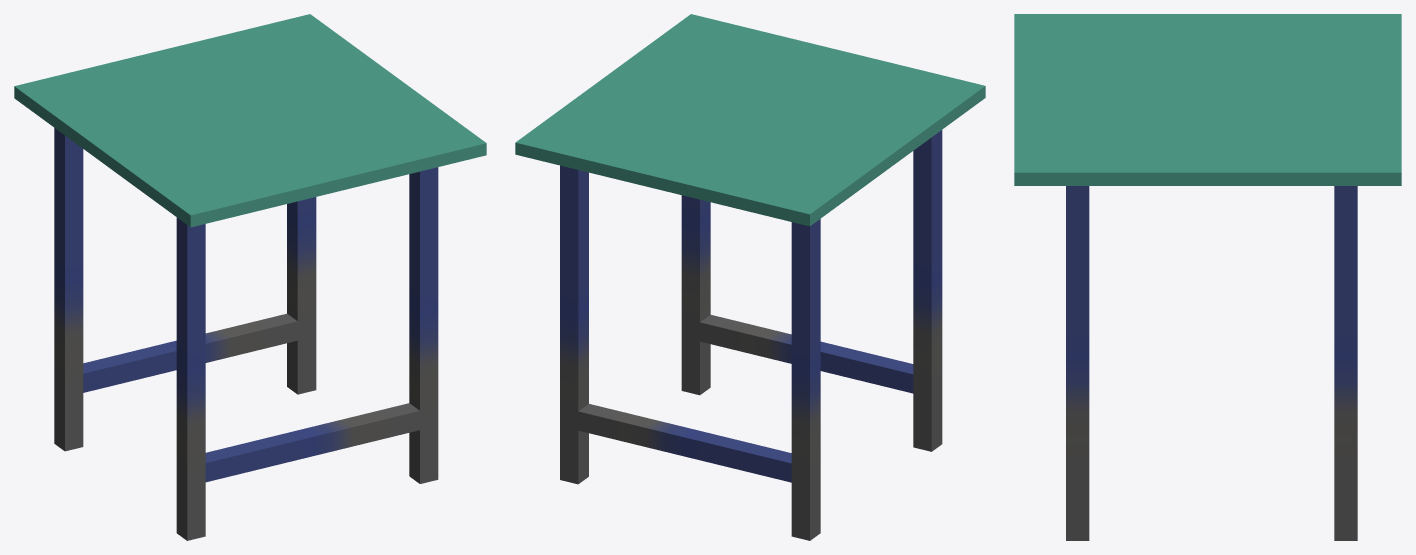
File: Kitchen_Chair2.fbx
3 views of the same model, side by side, from view 1: azimuth 30°, elevation 25°; view 2: azimuth 150°, elevation 25°; view 3: azimuth 270°, elevation 25° (orthographic). The views are drawn at different scales.
Visible parts, largest first — view 1: Kitchen_Chair2; view 2: Kitchen_Chair2; view 3: Kitchen_Chair2.
Part boxes in pixels (box(x1,y1,x2,y2)): Kitchen_Chair2: box(14, 14, 486, 540); Kitchen_Chair2: box(515, 14, 985, 540); Kitchen_Chair2: box(1014, 14, 1401, 540).
Bounding box in the file's own units: 79.91 × 89.7 × 82.55.
